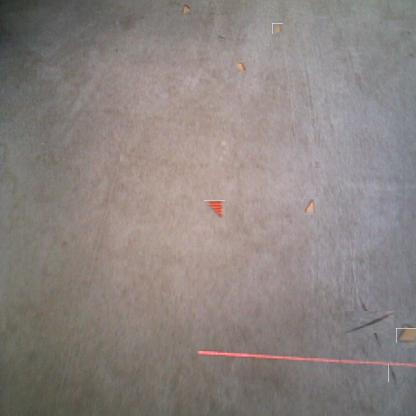dirty: (204, 200, 225, 220), (398, 325, 416, 345), (304, 199, 314, 215), (272, 23, 283, 34), (181, 3, 191, 15), (236, 61, 246, 71)
mark: (351, 304, 387, 340), (388, 364, 397, 382), (289, 122, 295, 138), (217, 33, 225, 41), (314, 160, 322, 168), (114, 48, 120, 53)
